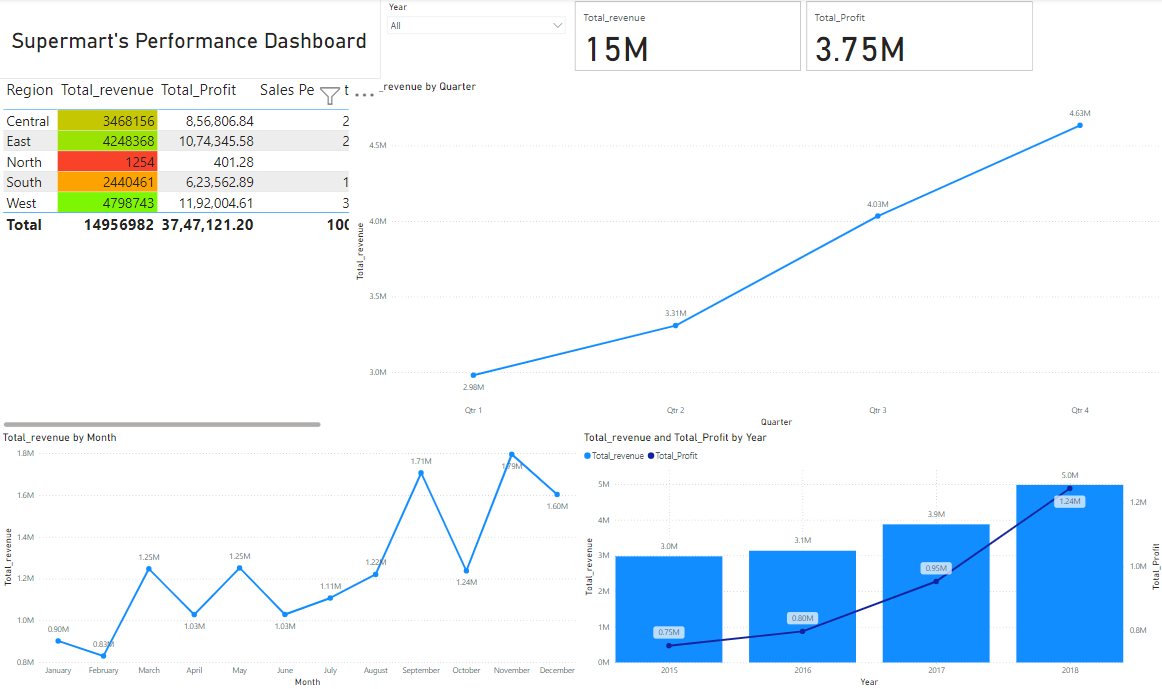

The page's visual inventory and layout, read from the dashboard file:
{"tool":"powerbi","page":{"name":"Supermart's Performance Dashboard","canvas":[1820,1080],"ordinal":0},"visuals":[{"type":"lineChart","fields":{"Category":["dim_date.Date.Variation.Date Hierarchy.Quarter"],"Y":["_Measures.Total_revenue"]},"box":[552.2,126.8,1268.2,548.3],"z":0},{"type":"lineChart","fields":{"Category":["dim_date.Date.Variation.Date Hierarchy.Month"],"Y":["_Measures.Total_revenue"]},"box":[2,675.1,907.3,405.8],"z":1000},{"type":"lineStackedColumnComboChart","fields":{"Category":["dim_date.Date.Variation.Date Hierarchy.Year"],"Y":["_Measures.Total_revenue"],"Y2":["_Measures.Total_Profit"]},"box":[909.2,675.1,911.2,405.8],"z":2000},{"type":"cardVisual","fields":{"Data":["_Measures.Total_revenue","_Measures.Total_Profit"]},"box":[895.6,0,924.8,119],"z":3000},{"type":"slicer","fields":{"Values":["dim_date.Date.Variation.Date Hierarchy.Year"]},"box":[552.2,0,343.4,119],"z":4000},{"type":"tableEx","fields":{"Values":["supermart_sales.Region","_Measures.Total_revenue","_Measures.Total_Profit","_Measures.Sales Percentage"]},"box":[2,265.4,550.2,409.7],"z":5000},{"type":"card","fields":{"Values":["_Measures.Title"]},"box":[0,0,552.2,126.8],"z":6000}]}

Visuals, with their boxes in screenshot pixels (x1, y1, x2, y2), scaled from the page's 1820x1080 canvas onto the 1162x689 screenshot:
lineChart - dim_date.Date.Variation.Date Hierarchy.Quarter x _Measures.Total_revenue: (left=353, top=81, right=1161, bottom=431)
lineChart - dim_date.Date.Variation.Date Hierarchy.Month x _Measures.Total_revenue: (left=1, top=431, right=581, bottom=688)
lineStackedColumnComboChart - dim_date.Date.Variation.Date Hierarchy.Year x _Measures.Total_revenue: (left=580, top=431, right=1161, bottom=688)
cardVisual - _Measures.Total_revenue x _Measures.Total_Profit: (left=572, top=0, right=1161, bottom=76)
slicer - dim_date.Date.Variation.Date Hierarchy.Year: (left=353, top=0, right=572, bottom=76)
tableEx - supermart_sales.Region x _Measures.Total_revenue: (left=1, top=169, right=353, bottom=431)
card - _Measures.Title: (left=0, top=0, right=353, bottom=81)
